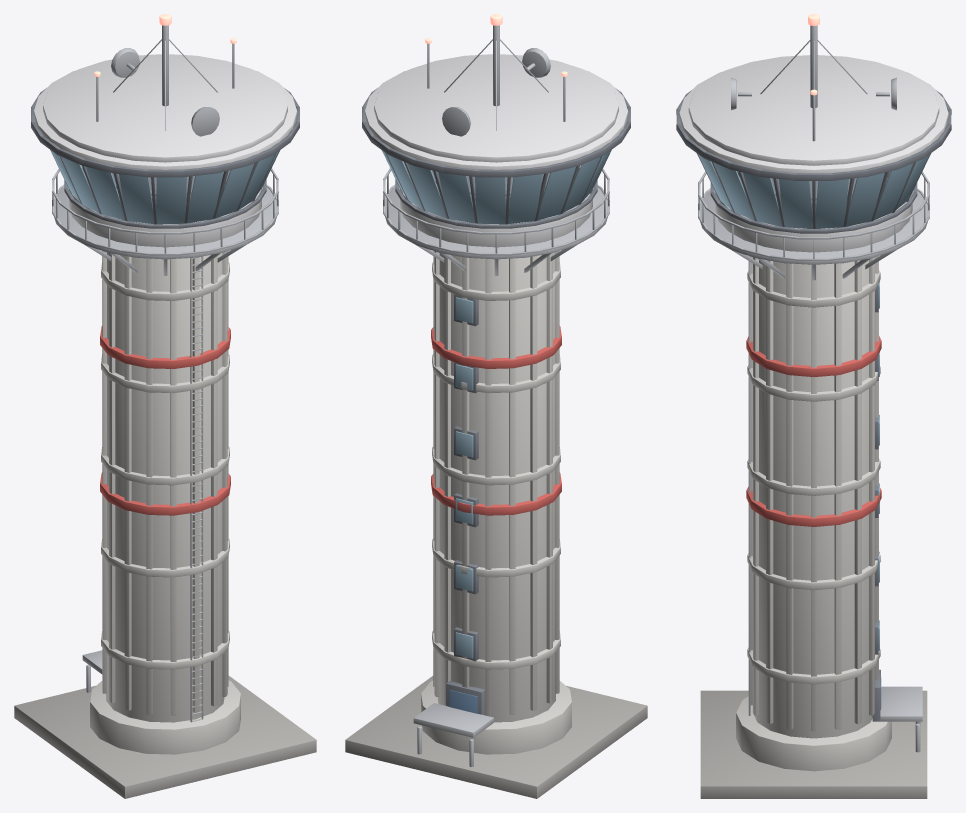
Rendered from th25_tower.glb.
The picture shows the model from 3 angles, left to right: view 1: azimuth 30°, elevation 25°; view 2: azimuth 150°, elevation 25°; view 3: azimuth 270°, elevation 25°; orthographic projection. The views are drawn at different scales.
Visible parts, largest first — view 1: Cylinder.001, Cylinder.012, Cube, Cylinder, Cylinder.009, Cylinder.011, Cylinder.010, Cube.010, Cube.013, Cube.012, Cube.011, Cube.014 (+22 smaller); view 2: Cylinder.001, Cylinder.012, Cube, Cylinder, Cylinder.009, Cylinder.011, Cylinder.010, Cube.008, Cube.006, Cube.007, Cube.009, Cube.004 (+22 smaller); view 3: Cylinder.001, Cylinder.012, Cube, Cylinder, Cylinder.009, Cylinder.011, Cylinder.010, Cube.002, Cube.016, Cube.003, Cube.015, Cube.001 (+20 smaller).
Boxes of the visible parts, x1,y1,x2,y2 form: Cylinder.001: [106, 252, 224, 722]; Cylinder.012: [43, 54, 287, 162]; Cube: [14, 676, 316, 798]; Cylinder: [90, 680, 240, 754]; Cylinder.009: [54, 187, 276, 259]; Cylinder.011: [33, 70, 297, 169]; Cylinder.010: [69, 165, 261, 247]; Cube.010: [124, 256, 131, 710]; Cube.013: [192, 257, 199, 712]; Cube.012: [170, 258, 176, 715]; Cube.011: [146, 258, 152, 715]; Cube.014: [211, 256, 217, 705]; Cylinder.001: [437, 252, 555, 722]; Cylinder.012: [374, 54, 618, 162]; Cube: [345, 676, 647, 798]; Cylinder: [421, 680, 571, 754]; Cylinder.009: [385, 187, 607, 259]; Cylinder.011: [364, 70, 628, 169]; Cylinder.010: [400, 165, 592, 247]; Cube.008: [530, 256, 537, 710]; Cube.006: [485, 258, 491, 715]; Cube.007: [509, 258, 515, 715]; Cube.009: [546, 253, 552, 703]; Cube.004: [444, 256, 450, 704]; Cylinder.001: [752, 260, 872, 738]; Cylinder.012: [688, 55, 939, 165]; Cube: [700, 690, 927, 798]; Cylinder: [736, 696, 891, 771]; Cylinder.009: [700, 190, 927, 264]; Cylinder.011: [679, 71, 948, 173]; Cylinder.010: [715, 192, 912, 252]; Cube.002: [834, 263, 841, 729]; Cube.016: [786, 263, 793, 729]; Cube.003: [854, 260, 861, 724]; Cube.015: [766, 260, 773, 724]; Cube.001: [811, 264, 816, 731].
Size of the model in its own units: 11.64 by 34.33 by 11.64.
